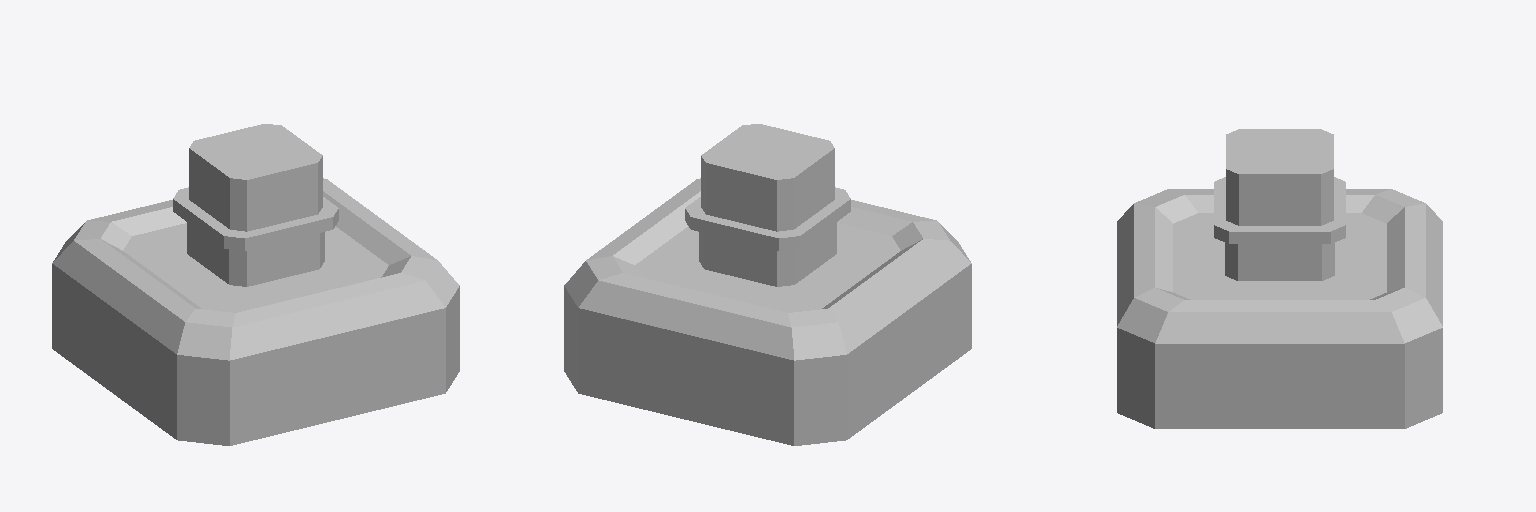
The model's file is camera_base.obj.
The picture shows the model from 3 angles: view 1: azimuth 30°, elevation 25°; view 2: azimuth 150°, elevation 25°; view 3: azimuth 270°, elevation 25°; orthographic projection.
Visible parts, largest first — view 1: Cube; view 2: Cube; view 3: Cube.
Boxes of the visible parts, x1=… form: Cube: x1=52, y1=124, x2=459, y2=445; Cube: x1=564, y1=124, x2=971, y2=445; Cube: x1=1117, y1=129, x2=1442, y2=428.
Size of the model in its own units: 2.24 by 1.57 by 2.24.